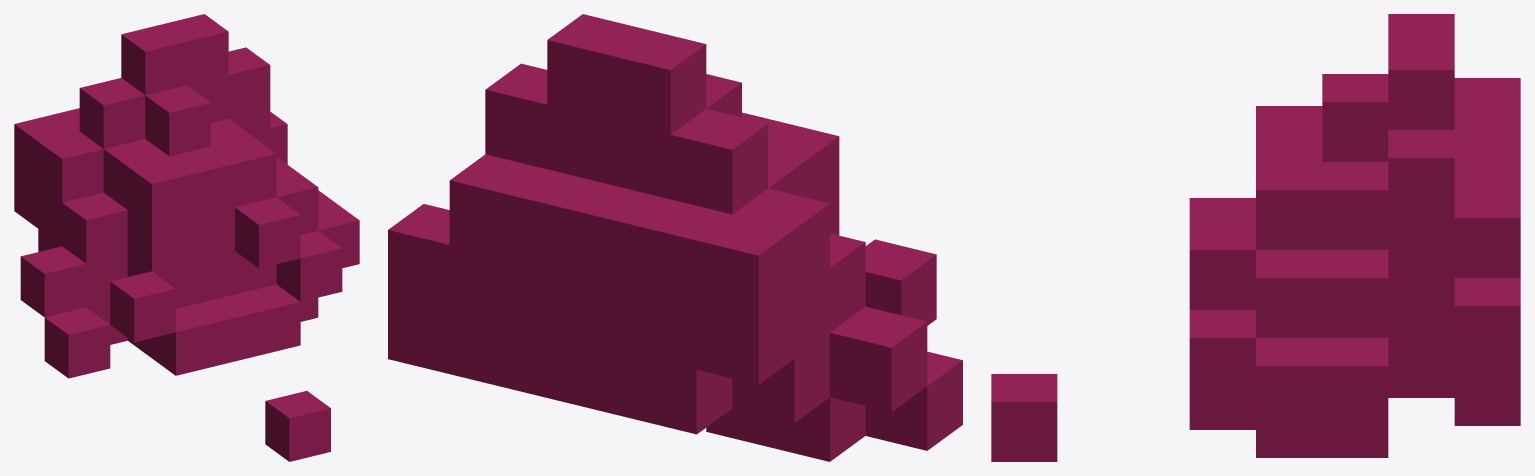
The model's file is luzrosa-g.obj.
The picture shows the model from 3 angles, left to right: view 1: azimuth 30°, elevation 25°; view 2: azimuth 150°, elevation 25°; view 3: azimuth 270°, elevation 25°; orthographic projection. The views are drawn at different scales.
Size of the model in its own units: 0.7 by 0.7 by 0.8.
1 material, 1 textured.
